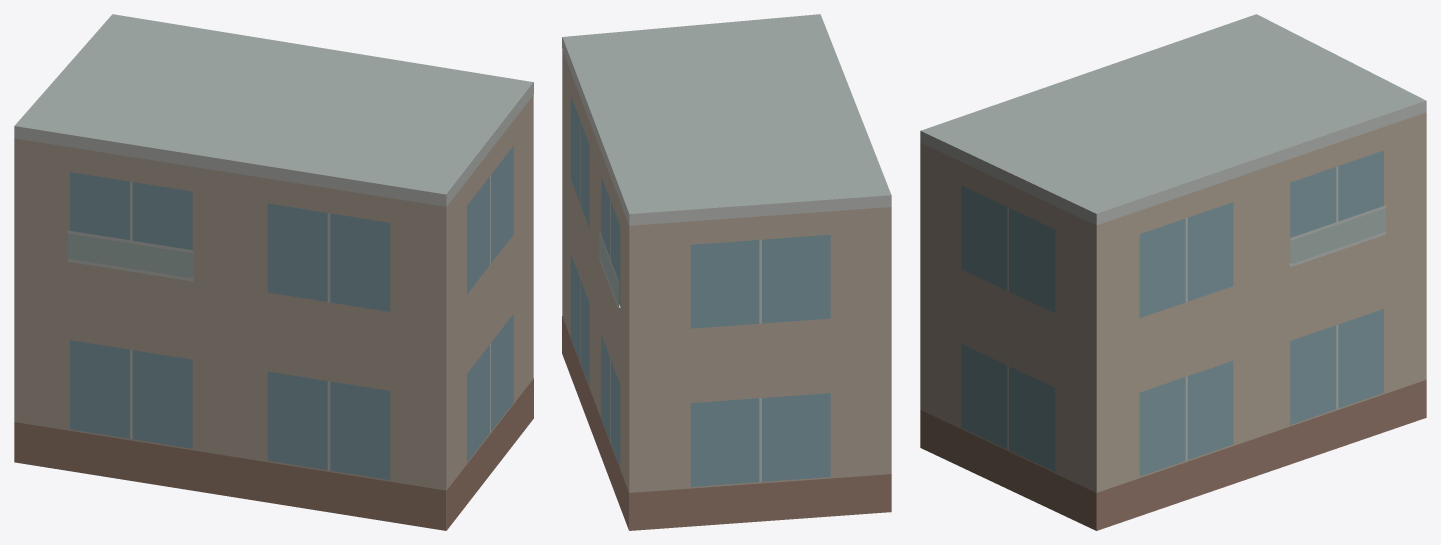
Rendered from survey-upis-32934130.glb.
The picture shows the model from 3 angles, left to right: view 1: azimuth 30°, elevation 25°; view 2: azimuth 150°, elevation 25°; view 3: azimuth 270°, elevation 25°; orthographic projection. The views are drawn at different scales.
Parts seen in each view (by area): view 1: survey-upis-32934130.tmp; view 2: survey-upis-32934130.tmp; view 3: survey-upis-32934130.tmp.
Boxes of the visible parts, <box> form: survey-upis-32934130.tmp: <box>14,14,533,530</box>; survey-upis-32934130.tmp: <box>562,14,891,530</box>; survey-upis-32934130.tmp: <box>920,14,1426,530</box>.
Bounding box in the file's own units: 9 × 6.65 × 9.63.
